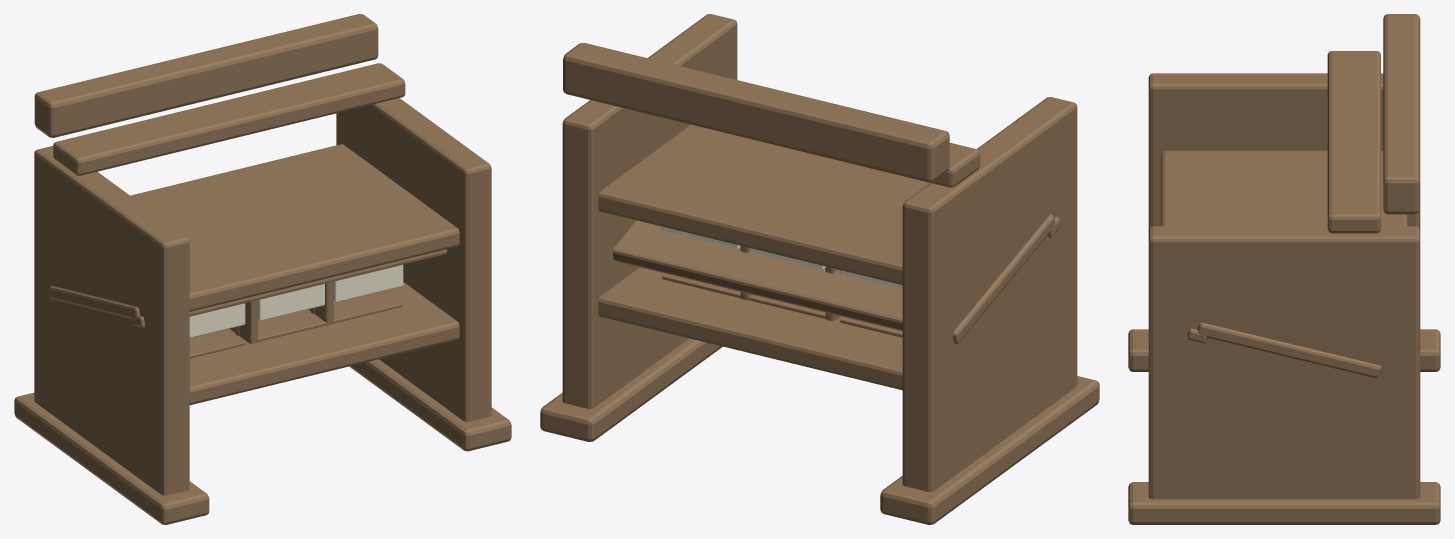
The model's file is monastery_sloped_writing_desk.glb.
The picture shows the model from 3 angles, left to right: view 1: azimuth 30°, elevation 25°; view 2: azimuth 150°, elevation 25°; view 3: azimuth 270°, elevation 25°; orthographic projection. The views are drawn at different scales.
Parts seen in each view (by area): view 1: world; view 2: world; view 3: world.
Boxes of the visible parts, left/top/right/bottom form: world: left=14, top=14, right=511, bottom=524; world: left=540, top=14, right=1099, bottom=524; world: left=1128, top=14, right=1440, bottom=524.
Size of the model in its own units: 2 by 1.8 by 1.49.
